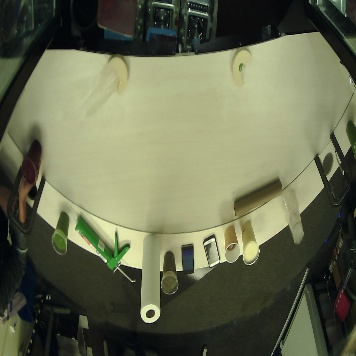empty_cup: (278, 189, 310, 245)
full_cup: (154, 242, 183, 296), (238, 220, 265, 266), (51, 205, 73, 259)
puck: (103, 52, 136, 94), (229, 41, 254, 89)
